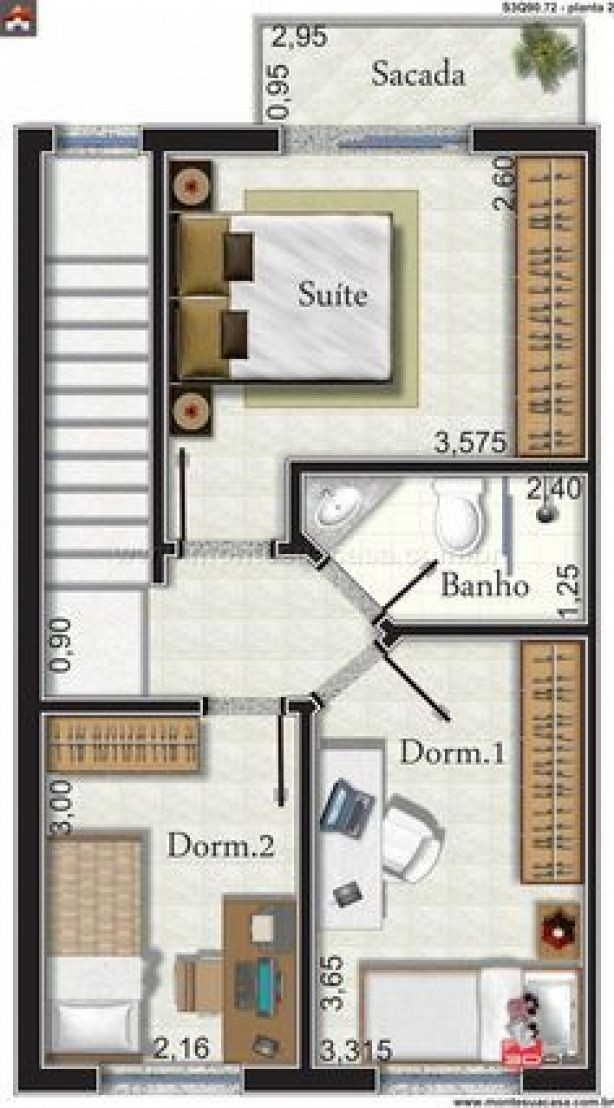wall: (16, 135, 39, 1086), (588, 129, 596, 1094), (152, 133, 165, 585), (152, 131, 163, 581), (294, 461, 593, 472), (144, 128, 280, 152), (473, 128, 598, 154), (246, 1068, 376, 1092), (300, 698, 308, 1087), (385, 624, 591, 636), (20, 701, 202, 711), (20, 1070, 97, 1090), (290, 463, 302, 544), (17, 131, 52, 148), (280, 542, 312, 555), (286, 702, 314, 712), (154, 544, 175, 554)
